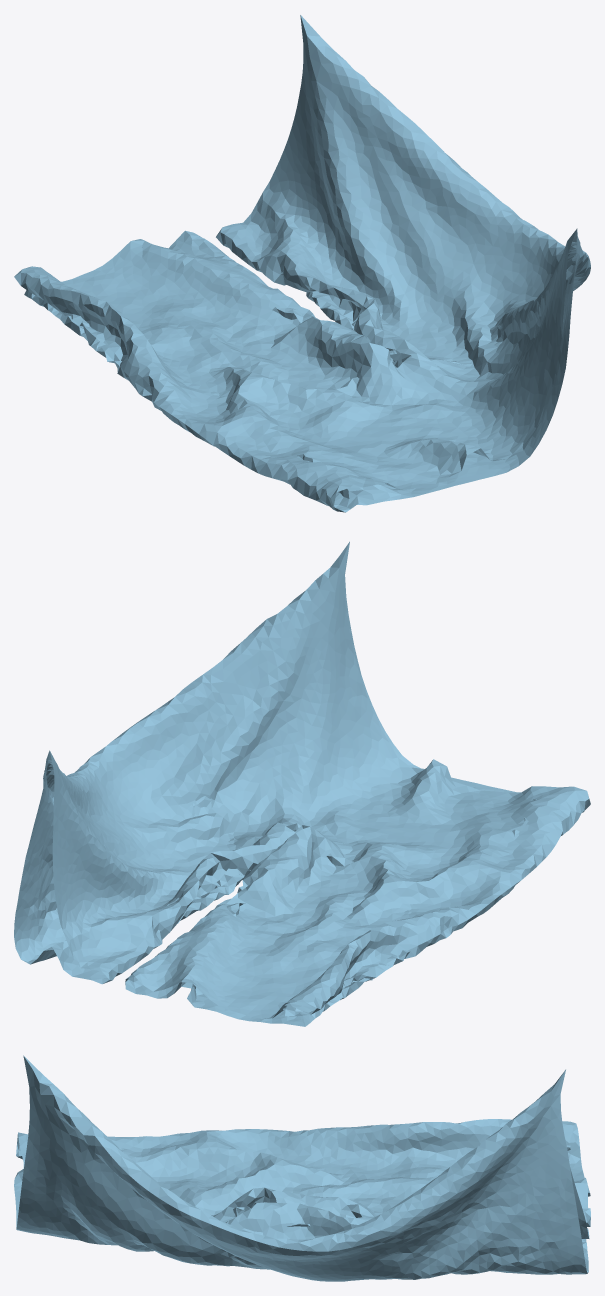
The model's file is frame_08.glb.
3 views of the same model, one above another, from view 1: azimuth 30°, elevation 25°; view 2: azimuth 150°, elevation 25°; view 3: azimuth 270°, elevation 25° (orthographic). The views are drawn at different scales.
Parts seen in each view (by area): view 1: frame_08.obj; view 2: frame_08.obj; view 3: frame_08.obj.
Part boxes in pixels (x1,y1,x2,y2): frame_08.obj: [14, 15, 590, 512]; frame_08.obj: [14, 541, 590, 1026]; frame_08.obj: [14, 1055, 590, 1281].
Bounding box in the file's own units: 1.17 × 0.6485 × 1.6.
